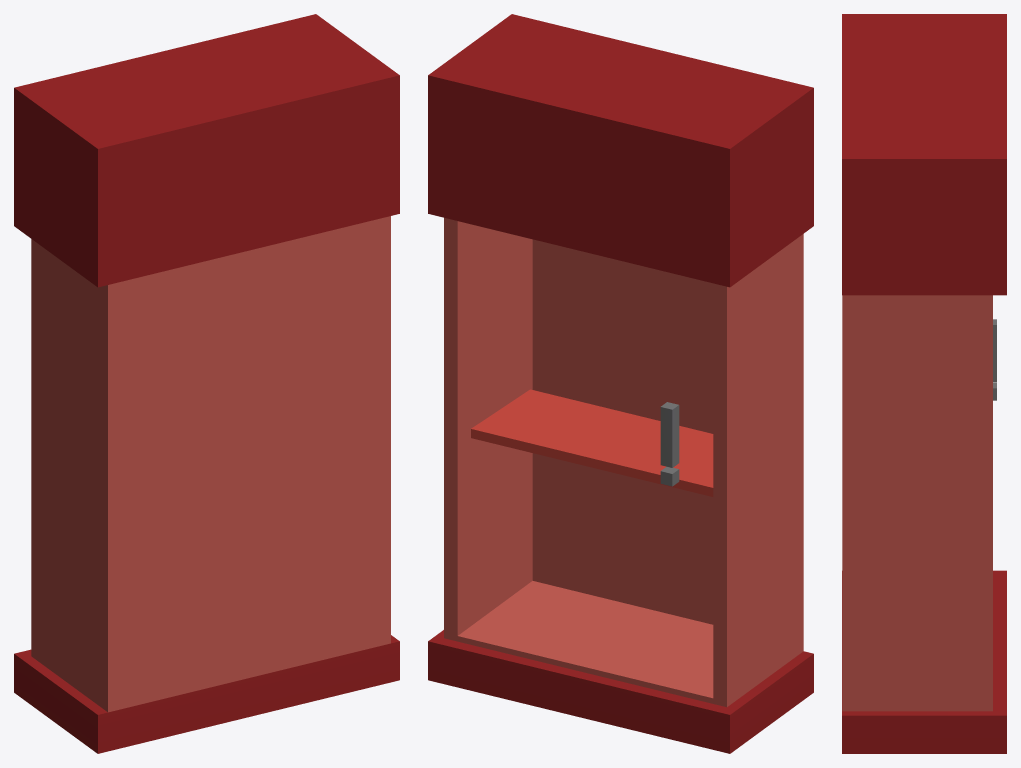
File: fridge.fbx
3 views of the same model, side by side, from view 1: azimuth 30°, elevation 25°; view 2: azimuth 150°, elevation 25°; view 3: azimuth 270°, elevation 25° (orthographic).
Parts seen in each view (by area): view 1: fridge; view 2: fridge; view 3: fridge.
Part boxes in pixels (bbox=[...]): fridge: bbox=[14, 14, 399, 753]; fridge: bbox=[428, 14, 813, 753]; fridge: bbox=[842, 14, 1006, 753].
Size of the model in its own units: 0.5574 by 1.07 by 0.2677.
